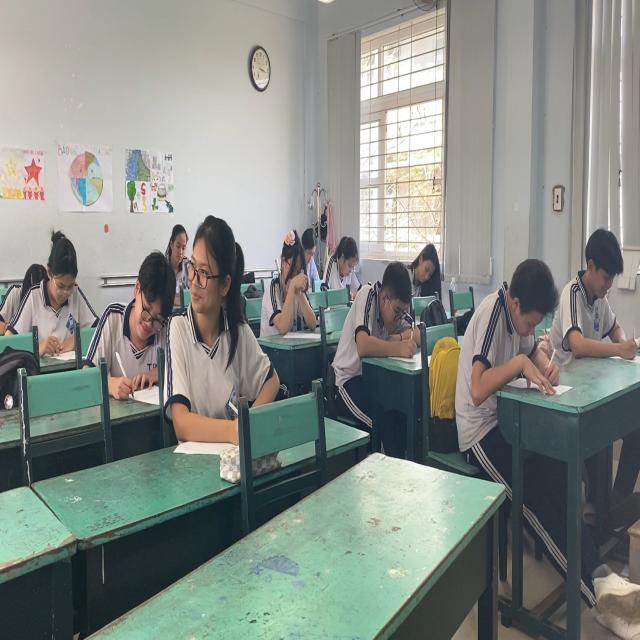cheating: (176, 209, 253, 427)
not_cheating: (459, 251, 556, 392), (96, 257, 168, 399), (555, 233, 636, 358), (14, 226, 90, 347), (256, 219, 317, 351), (343, 272, 418, 351), (323, 229, 360, 298), (405, 233, 442, 295), (166, 212, 189, 282)
